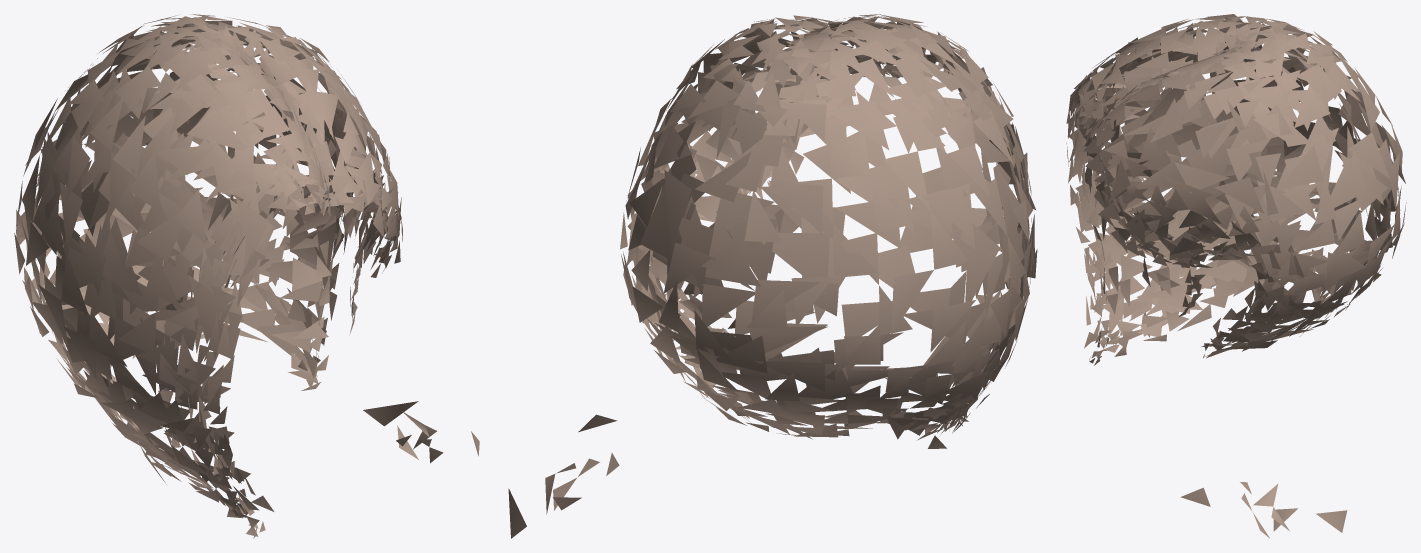
The model's file is female_hair_03_lod1.glb.
The picture shows the model from 3 angles, left to right: view 1: azimuth 30°, elevation 25°; view 2: azimuth 150°, elevation 25°; view 3: azimuth 270°, elevation 25°; orthographic projection. The views are drawn at different scales.
Parts seen in each view (by area): view 1: female-hair-03; view 2: female-hair-03; view 3: female-hair-03.
Part boxes in pixels (box(x1,y1,x2,y2)): female-hair-03: box(14, 14, 479, 538); female-hair-03: box(508, 14, 1037, 538); female-hair-03: box(1066, 14, 1406, 538).
Bounding box in the file's own units: 0.2645 × 0.3027 × 0.2246.
